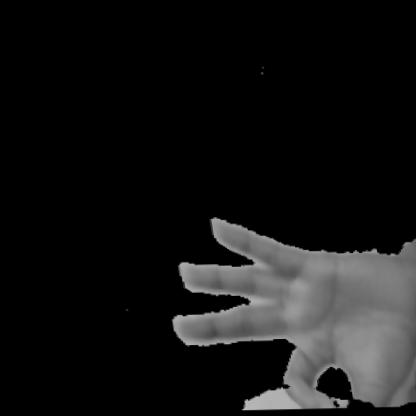ok: (133, 196, 415, 413)
